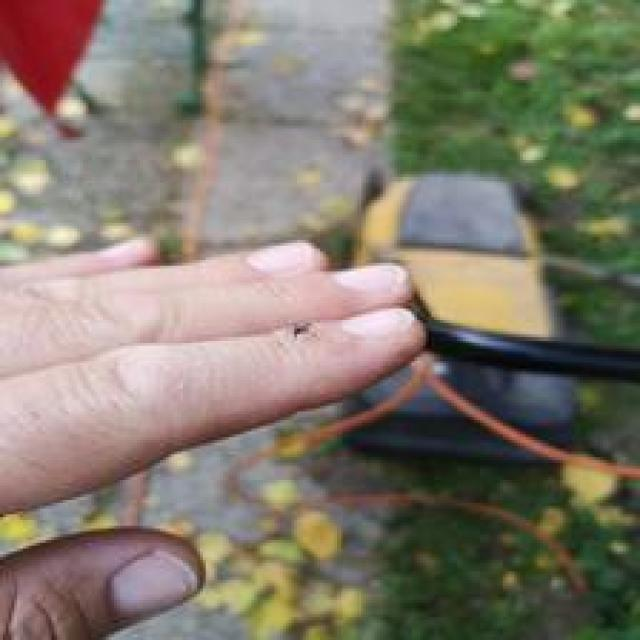Aedes albopictus: (300, 164, 640, 487)
